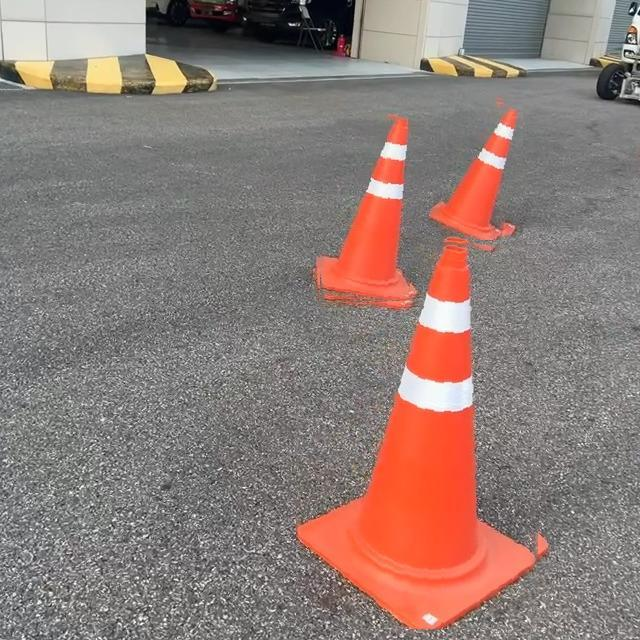fallen_object: (290, 202, 520, 627), (299, 50, 429, 283), (429, 79, 537, 256)
